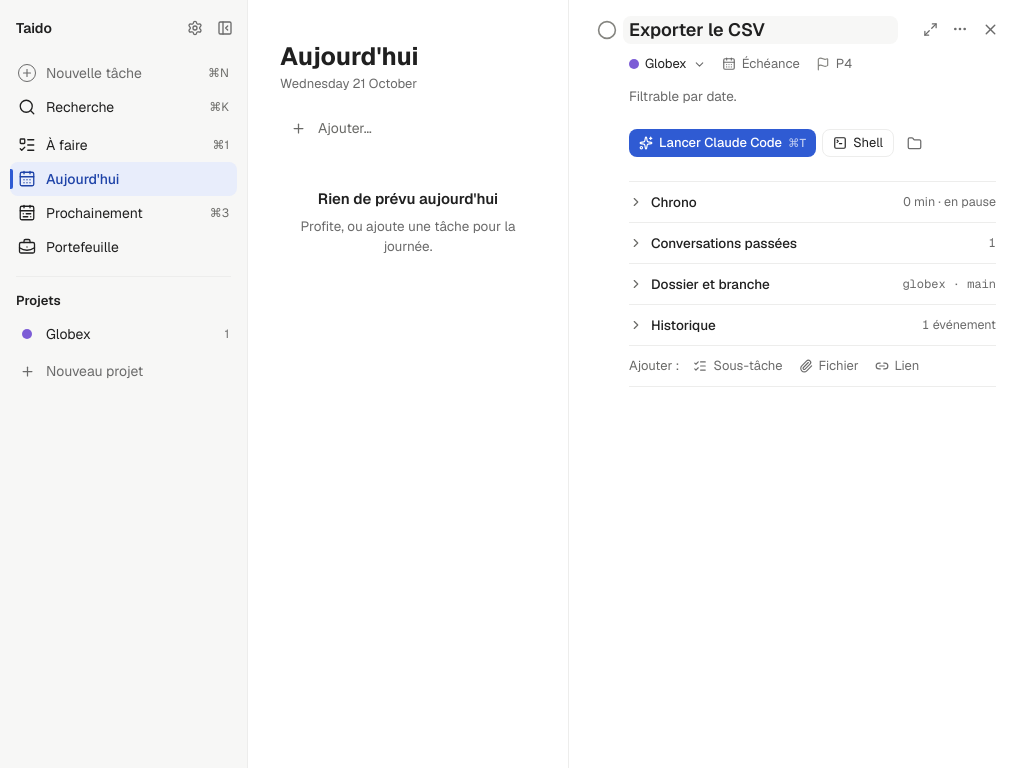
Scenario: « Conversations passées » history › resumes an ended session in a new tab
Expected: the text box named "Titre de la tâche" is shown, x1=623 y1=16 x2=898 y2=44
Expected: the text "bonjour" is not shown
Click the button "Conversations passées 1" at (724, 243), box x1=629 y1=223 x2=996 y2=263
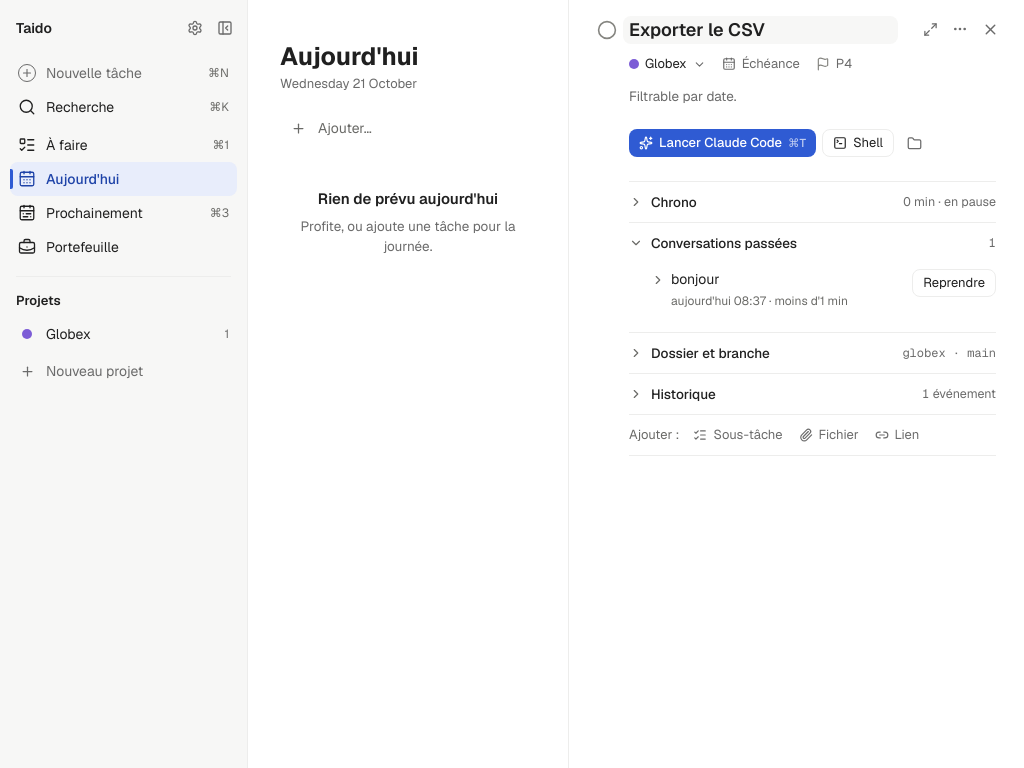
Expected: the list item does not show "arrêtée brutalement", x1=651 y1=263 x2=996 y2=316
Now the list item shows "moins d'1 min", box x1=651 y1=269 x2=870 y2=310
Now the text "bonjour" is shown, box x1=671 y1=270 x2=720 y2=288
Click the button "Reprendre" at (954, 283), box x1=912 y1=269 x2=996 y2=297
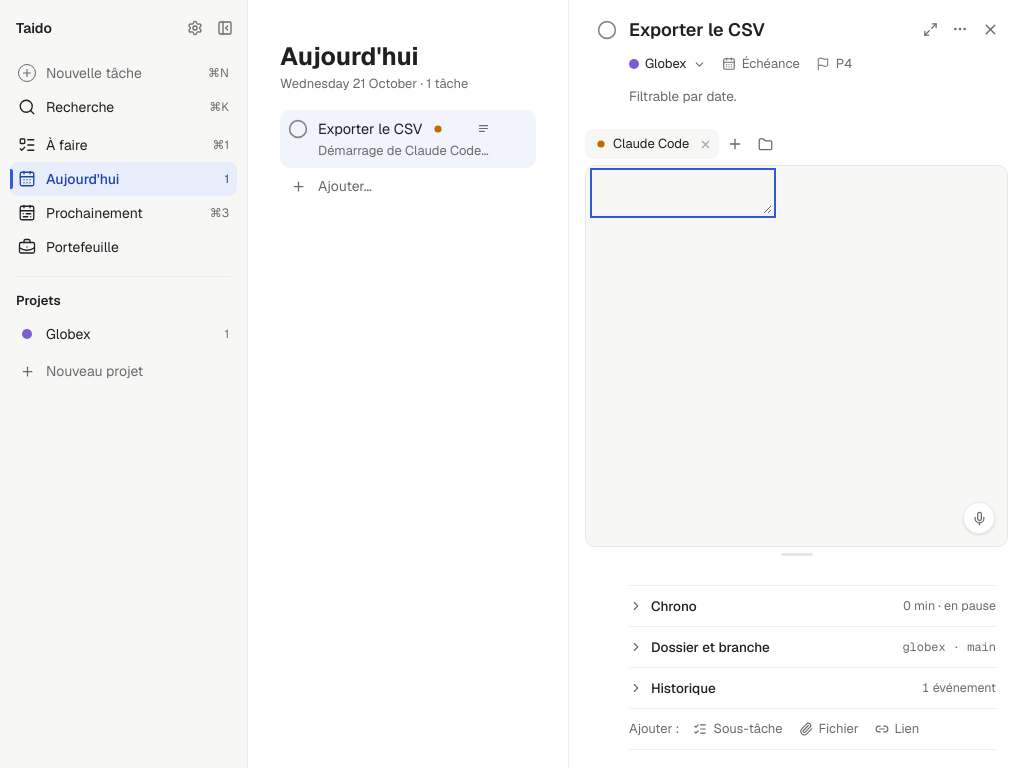
Now the tab "Claude Code" is shown, box x1=585 y1=129 x2=693 y2=159
Now the button "Conversations passées" is gone
